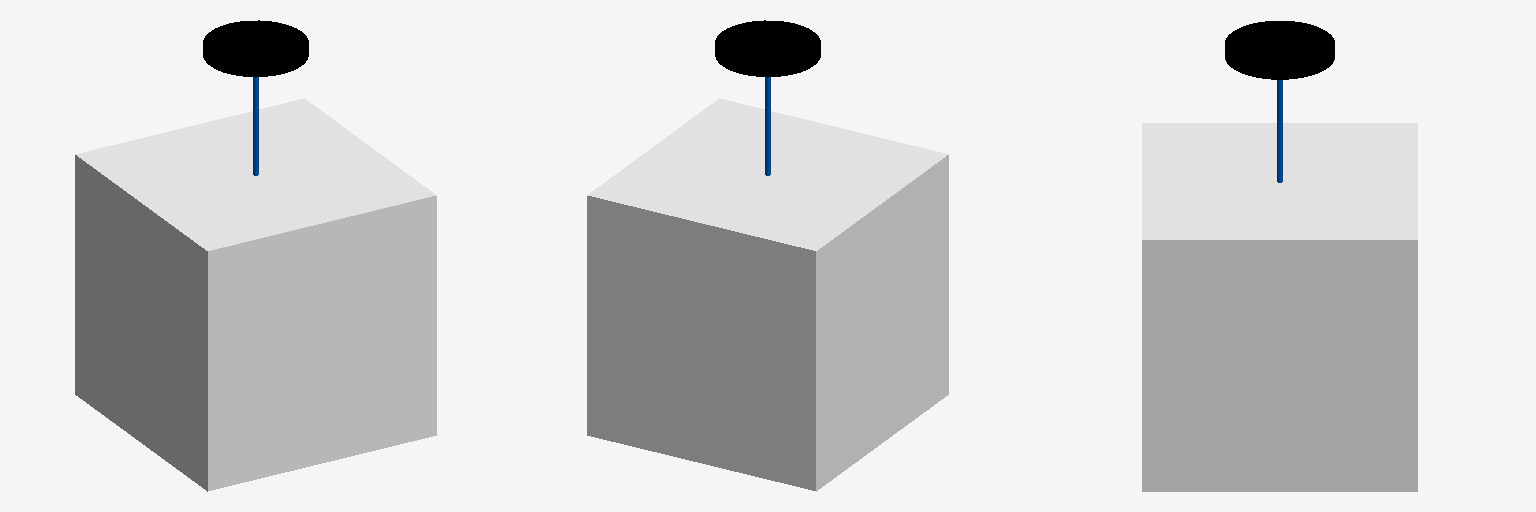
The robot description file, URDF, robot "car":
<robot name="car">
    <link name="base_link">
        <visual>
            <geometry >
                <!-- <cylinder radius="1" length="2" /> -->
                <!-- <sphere radius="0.5" /> -->
                <box size="1 1 1" />
                <!-- <mesh filename="package://urdf1/meshes/autolabor_mini.stl"/>     -->
            </geometry>
            <origin xyz= "0 0 0" rpy="0 0 0"/>
            <material name = "white">
                <color rgba = "1 1 1 0.5"/>
            </material> 
        </visual>
    </link>
    <link name="stick">
        <visual>
            <geometry>
                <cylinder radius="0.01" length="0.5"/>
            </geometry>
            <material name="blue">
                <color rgba="0 0.4 0.8 1"/>
            </material>
            <origin xyz="0 0 0.25" rpy="0 0 0"/>   
        </visual>
    </link> 
    <link name="camera_link">
        <visual>
            <geometry>
                <cylinder radius="0.2" length="0.05"/>
            </geometry>
            <material name="black">
                <color rgba="0 0 0 0.5"/>
            </material>
            <origin xyz="0 0 0.25" rpy="0 0 0"/>   
        </visual>
    </link>    
    <joint name="stick_to_base_link" type="fixed">
        <parent link="base_link"/>
        <child link="stick"/>
        <origin xyz="0 0 0.5" rpy="0 0 0"/>
    </joint>
    <joint name="camera_link_to_stick" type="continuous">    
        <parent link="stick"/>
        <child link="camera_link"/>
        <axis xyz="0 1 0"/>
        <origin xyz="0 0 0.275"/>
        <limit lower="-1.57" upper="1.57" effort="100" velocity="1"/>
    </joint>    
</robot>

--- Facts derived from the render (not from the file) ---
3 views of the same robot in one strip: view 1: azimuth 30°, elevation 25°; view 2: azimuth 150°, elevation 25°; view 3: azimuth 270°, elevation 25° (orthographic).
Robot: car — 3 links, 2 joints (1 continuous, 1 fixed); root link base_link; default pose: every joint at zero.
Visible links, largest first — view 1: base_link, camera_link, stick; view 2: base_link, camera_link, stick; view 3: base_link, camera_link, stick.
Boxes of the visible links, x1,y1,x2,y2 form: base_link: (75, 98, 436, 491); camera_link: (203, 20, 308, 76); stick: (253, 77, 258, 175); base_link: (587, 98, 948, 491); camera_link: (715, 20, 820, 76); stick: (765, 77, 770, 175); base_link: (1142, 123, 1417, 491); camera_link: (1225, 21, 1334, 79); stick: (1277, 80, 1282, 182).
Bounding box of the posed robot: 1 × 1 × 1.55 m (x, y, z).
Geometry: primitives only (box / cylinder / sphere), no mesh files.